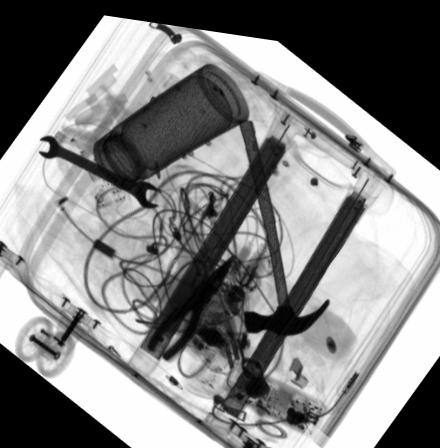Hammer: (237, 111, 333, 327)
Pliers: (145, 245, 240, 357)
Wrench: (38, 133, 161, 204)
